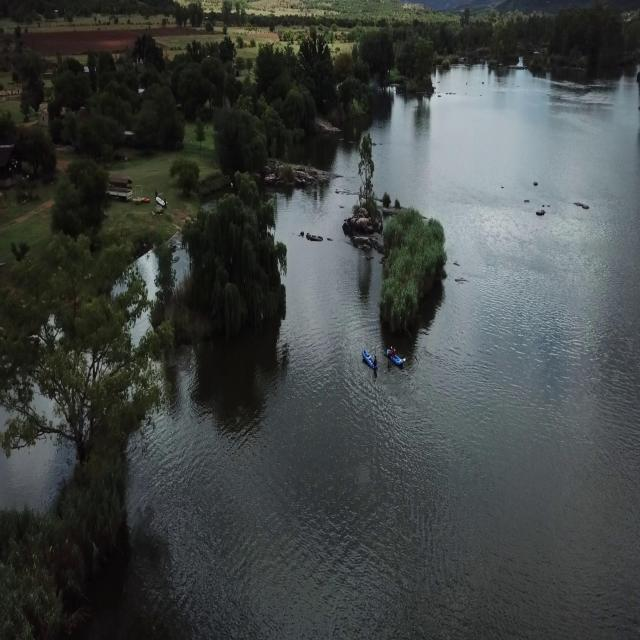kayak: (384, 341, 406, 369), (360, 343, 379, 373)
